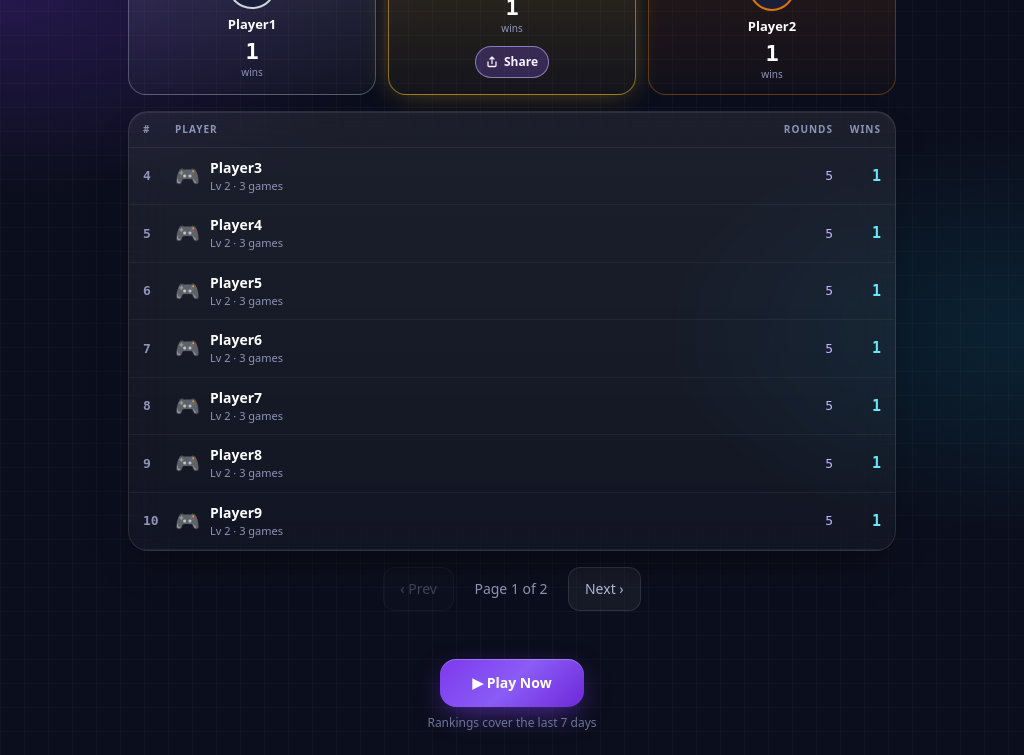
Test: LeaderboardPage › paginates rows in pages of 10
(page scrolled)
Expected: the text "Page 1 of 2" is shown, [474,579,548,598]
Expected: the text "Player1" is shown, [228,15,276,34]
Click the button "Next ›". click: (604, 589)
box: [568,567,641,611]
(page scrolled)
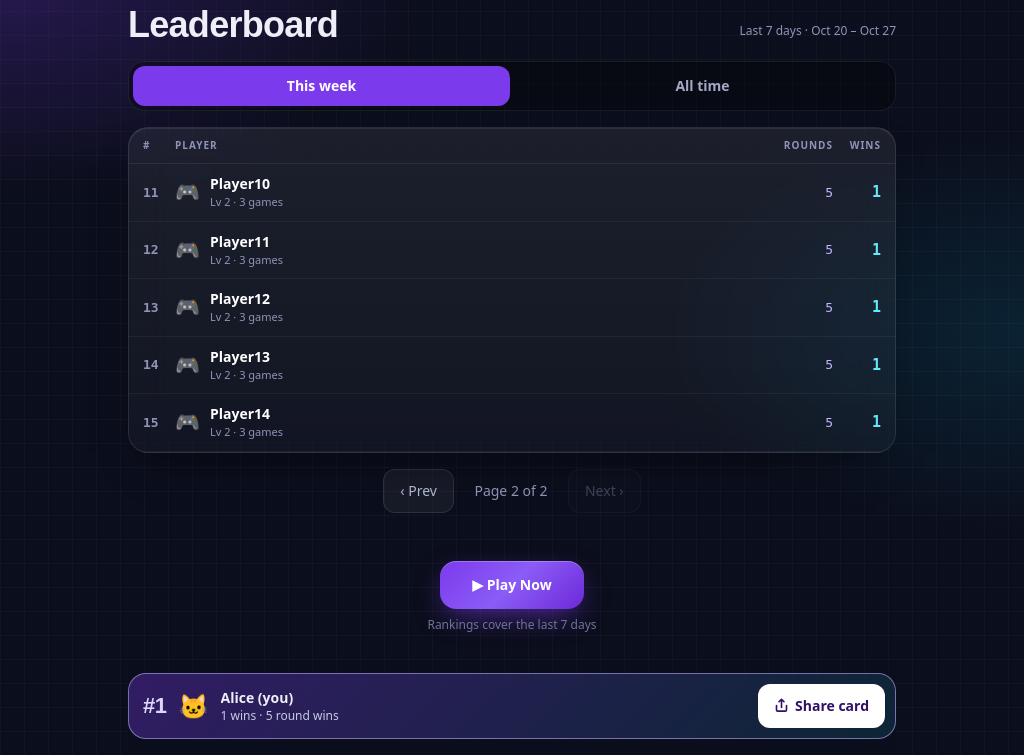
Result: the text "Page 2 of 2" is shown at [474,480,548,500]
Result: the text "Player10" is shown at [210,174,270,194]
